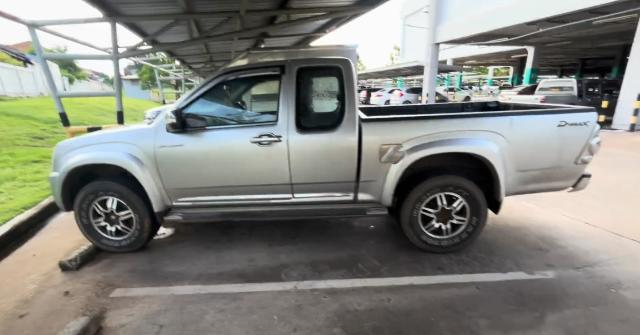pickup-truck: (49, 55, 598, 254)
